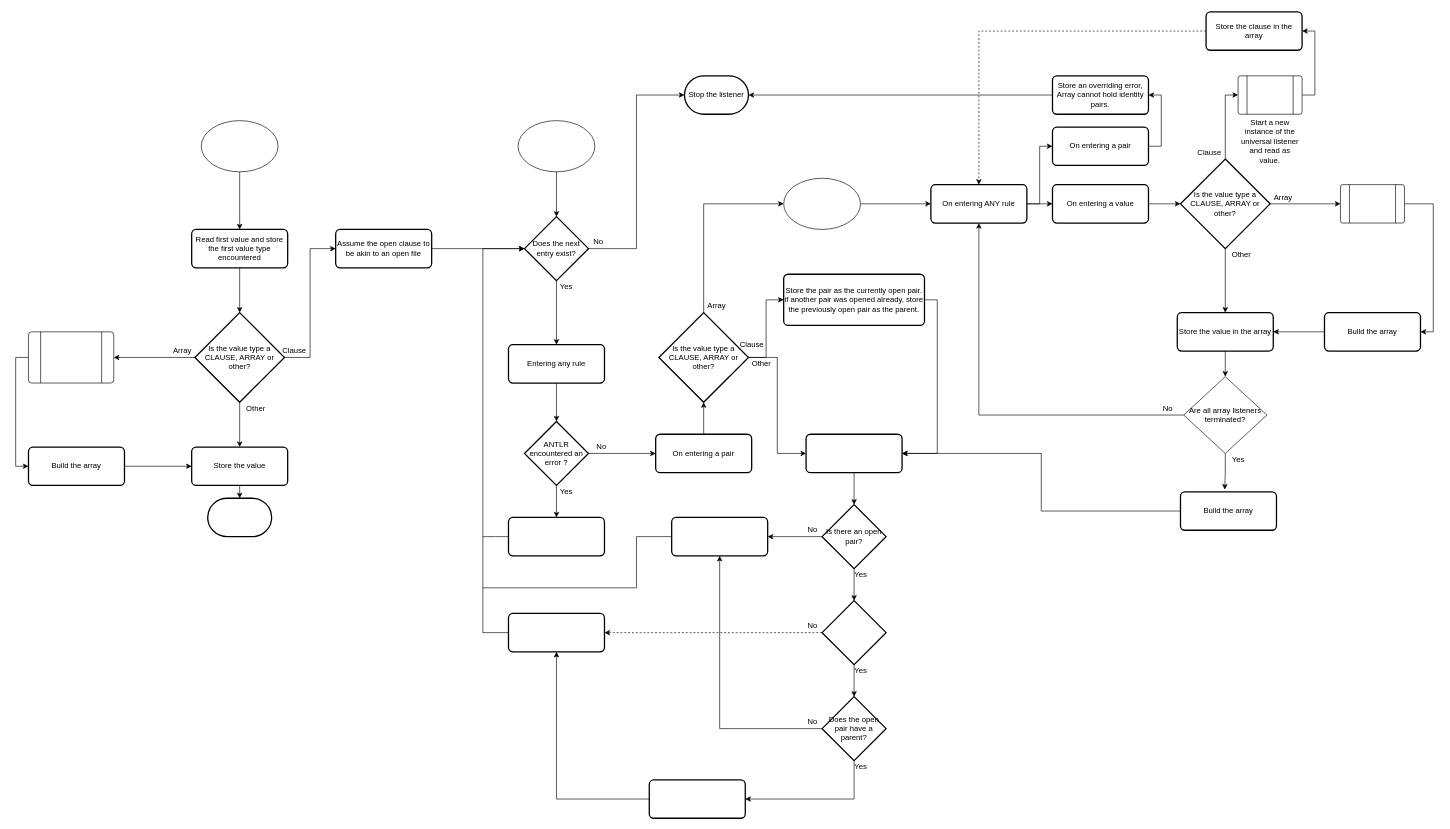
Some shapes in this 1450 by 829 pixel diagram are drawn without their labels. Here are the shapes that lost their labels. From the top down, the centre of each, then its label:
At point (239, 146): "Reading as value".
At point (556, 146): "Reading as file".
At point (821, 203): "Start a new instance of an array listener".
At point (1372, 203): "Start a new instance of the array listener".
At point (71, 357): "Start a new array listener instance".
At point (853, 453): "On exiting a pair".
At point (239, 517): "On value exit, listener terminates.".
At point (556, 536): "Store the error and attempt to continue".
At point (719, 536): "Build the pair. Store the entry on the file level.".
At point (556, 632): "Build the pair. Store the entry in the open pair".
At point (853, 632): "Is the closing pair a clause?".
At point (697, 799): "Build the pair. Replace the open pair with the closed pair's parent.".
